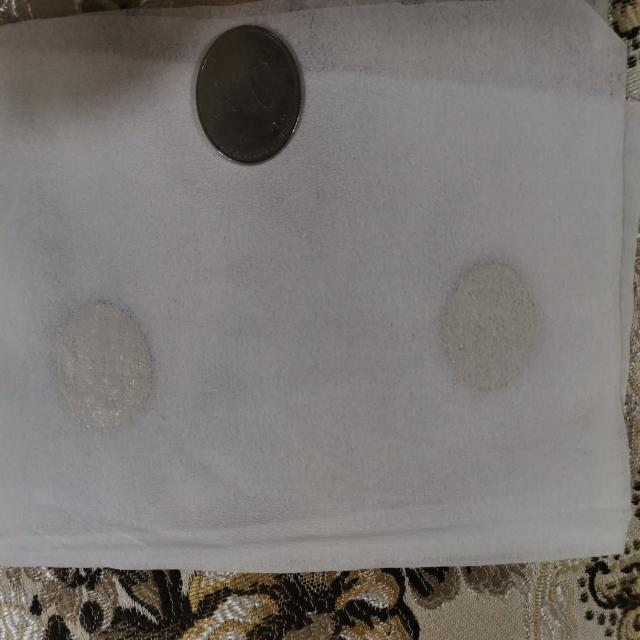5-coins: (190, 19, 306, 165), (440, 261, 542, 400), (51, 296, 153, 433)
